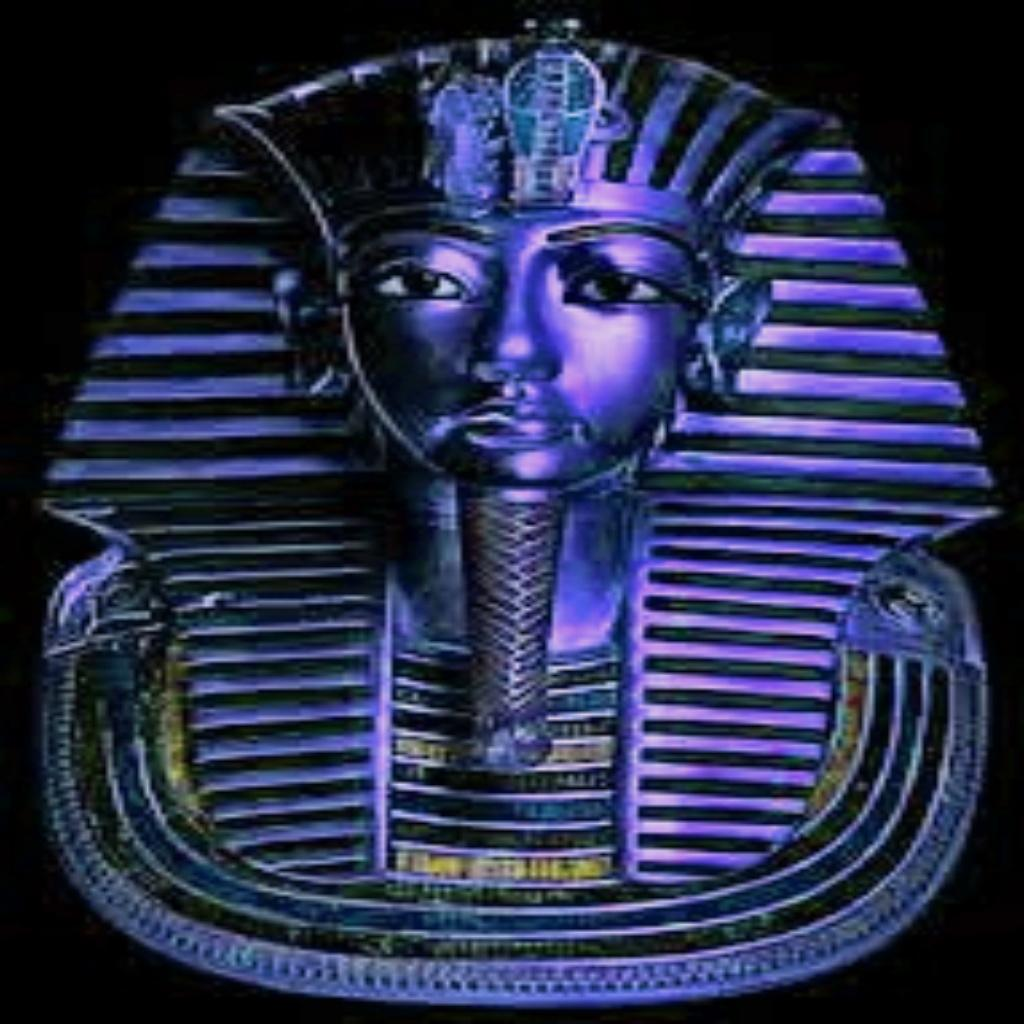Mask of Tutankhamun: (36, 2, 994, 1010)
